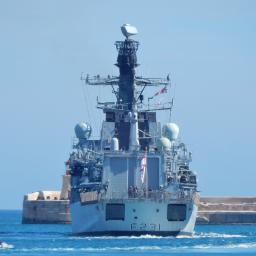Fragata: (68, 23, 199, 237)
